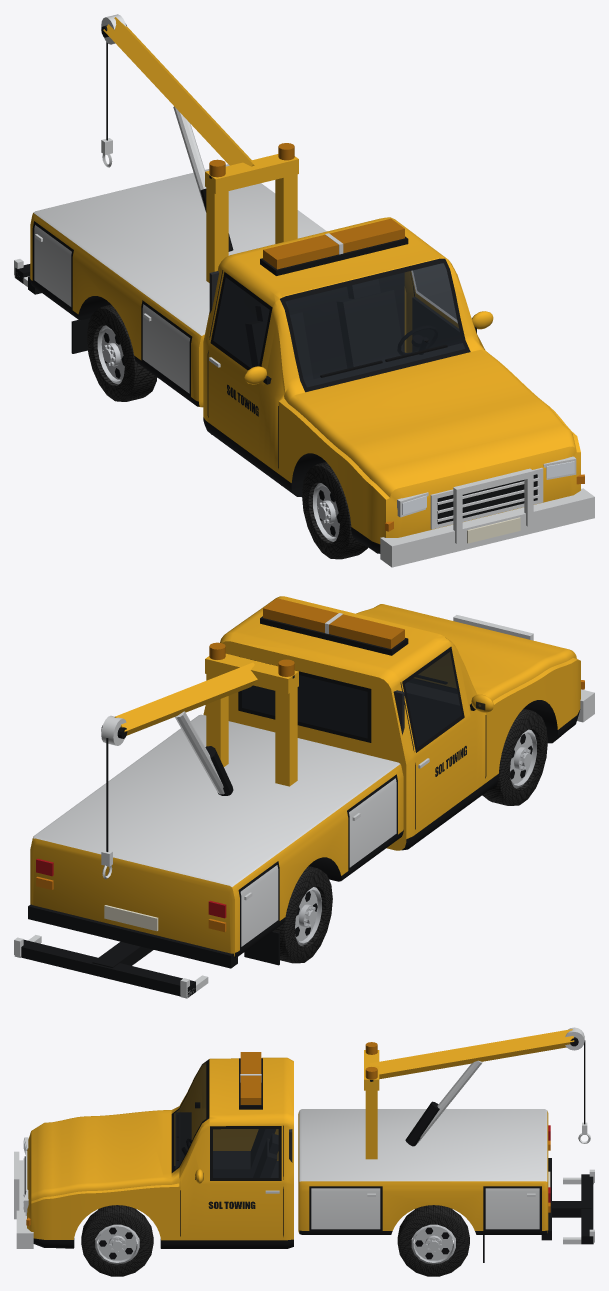
The model's file is car_towtruck.glb.
3 renders of one model, top to bottom at view 1: azimuth 30°, elevation 25°; view 2: azimuth 150°, elevation 25°; view 3: azimuth 270°, elevation 25°, orthographic. The views are drawn at different scales.
Parts seen in each view (by area): view 1: Body, wheel_RR, wheel_FR, Door_L; view 2: Body, wheel_FR, wheel_RR; view 3: Body, Door_L, wheel_FL, wheel_RL.
Part boxes in pixels (left/top/right/bottom): Body: left=14, top=14, right=594, bottom=567; wheel_RR: left=87, top=304, right=157, bottom=401; wheel_FR: left=302, top=462, right=367, bottom=559; Door_L: left=410, top=261, right=493, bottom=351; Body: left=14, top=596, right=594, bottom=998; wheel_FR: left=482, top=708, right=547, bottom=805; wheel_RR: left=273, top=866, right=332, bottom=963; Body: left=14, top=1027, right=594, bottom=1262; Door_L: left=180, top=1122, right=283, bottom=1248; wheel_FL: left=81, top=1205, right=153, bottom=1276; wheel_RL: left=397, top=1205, right=469, bottom=1276.
Size of the model in its own units: 2.45 by 2.72 by 6.74.
Materials: 14 (1 with a texture image).
